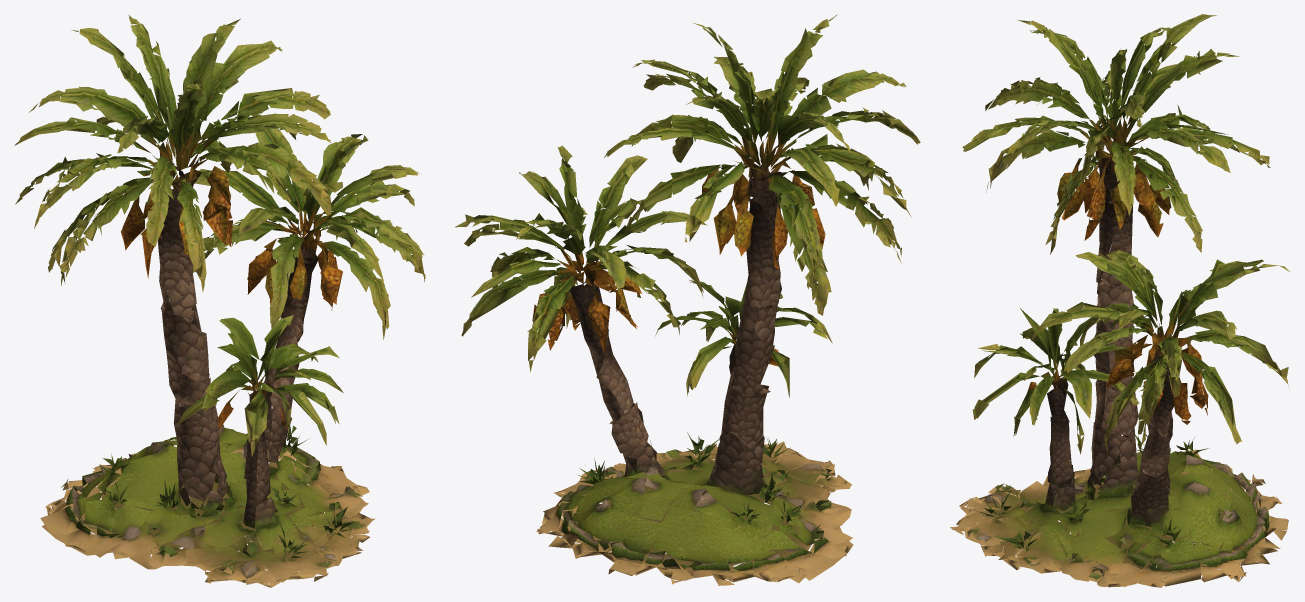
File: DatePalm.fbx
3 views of the same model, side by side, from view 1: azimuth 30°, elevation 25°; view 2: azimuth 150°, elevation 25°; view 3: azimuth 270°, elevation 25° (orthographic). The views are drawn at different scales.
Visible parts, largest first — view 1: DatePalm_Body; view 2: DatePalm_Body; view 3: DatePalm_Body.
Part boxes in pixels (x1=…): DatePalm_Body: x1=15, y1=14, x2=425, y2=587; DatePalm_Body: x1=455, y1=14, x2=920, y2=585; DatePalm_Body: x1=950, y1=14, x2=1289, y2=587.
Bounding box in the file's own units: 0.8713 × 1 × 0.6384.
Materials: 1 (1 with a texture image).
